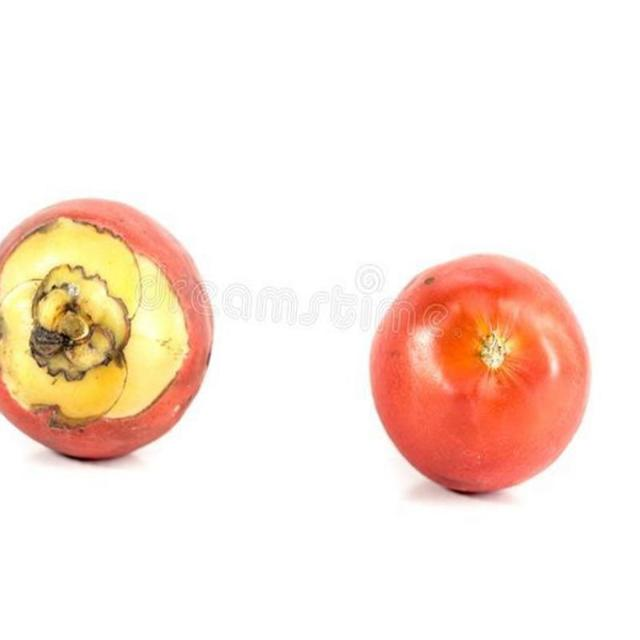good: (0, 199, 217, 464), (0, 199, 216, 464), (368, 253, 592, 496), (368, 254, 592, 496)
